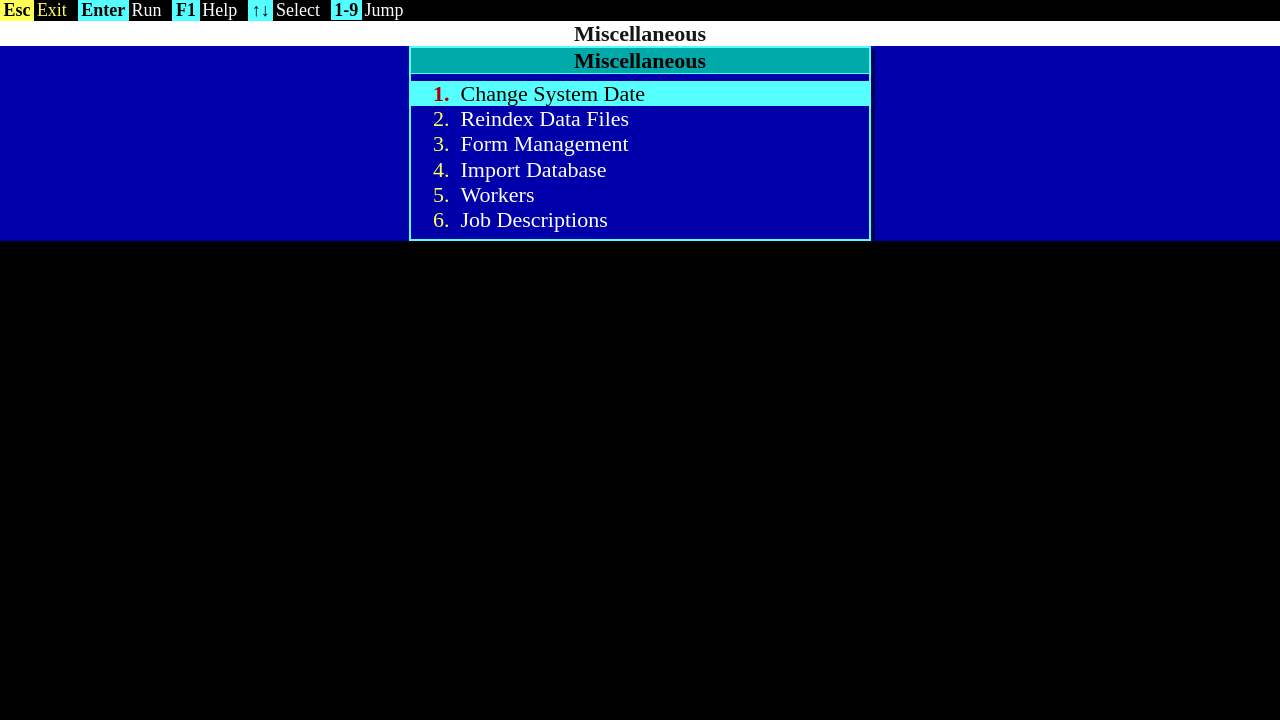
Test: MiscScreen › closes a Workers delete prompt on Esc without leaving the screen
Click the button "5.Workers": (497,195) [411,182,869,207]
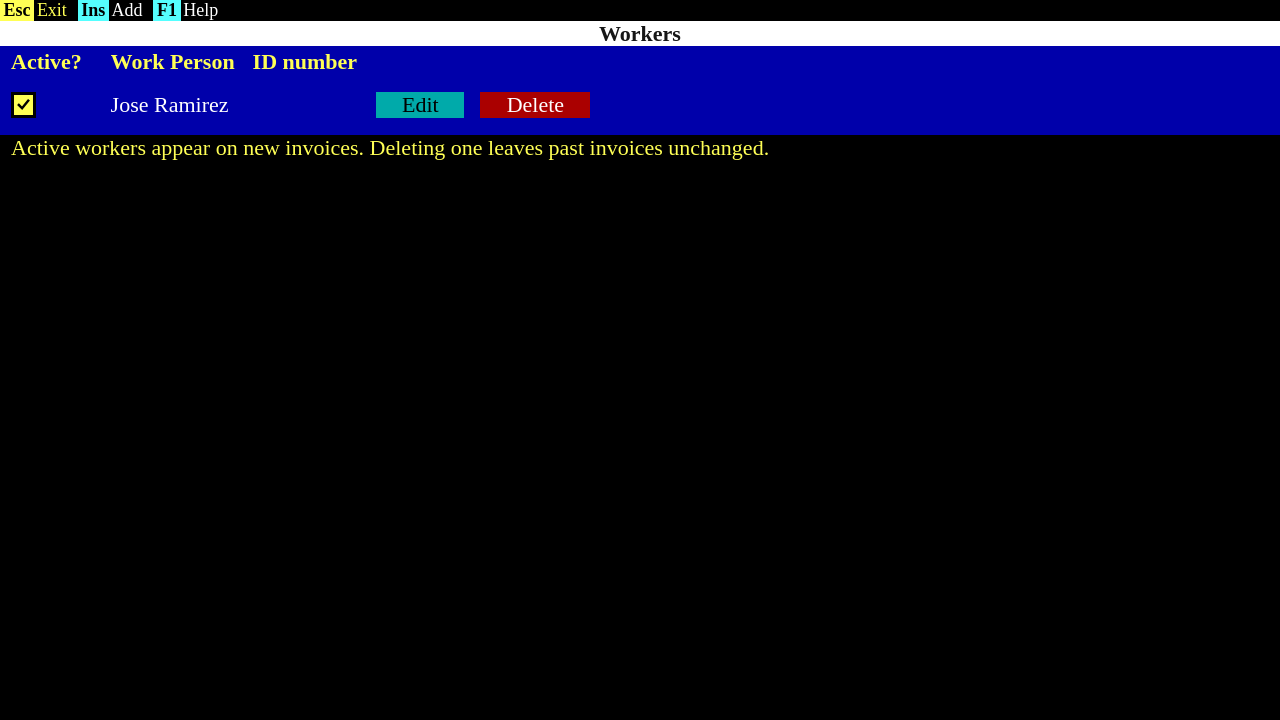
Click the button with aria-label "Delete Jose Ramirez": (535,105) [480,92,590,118]
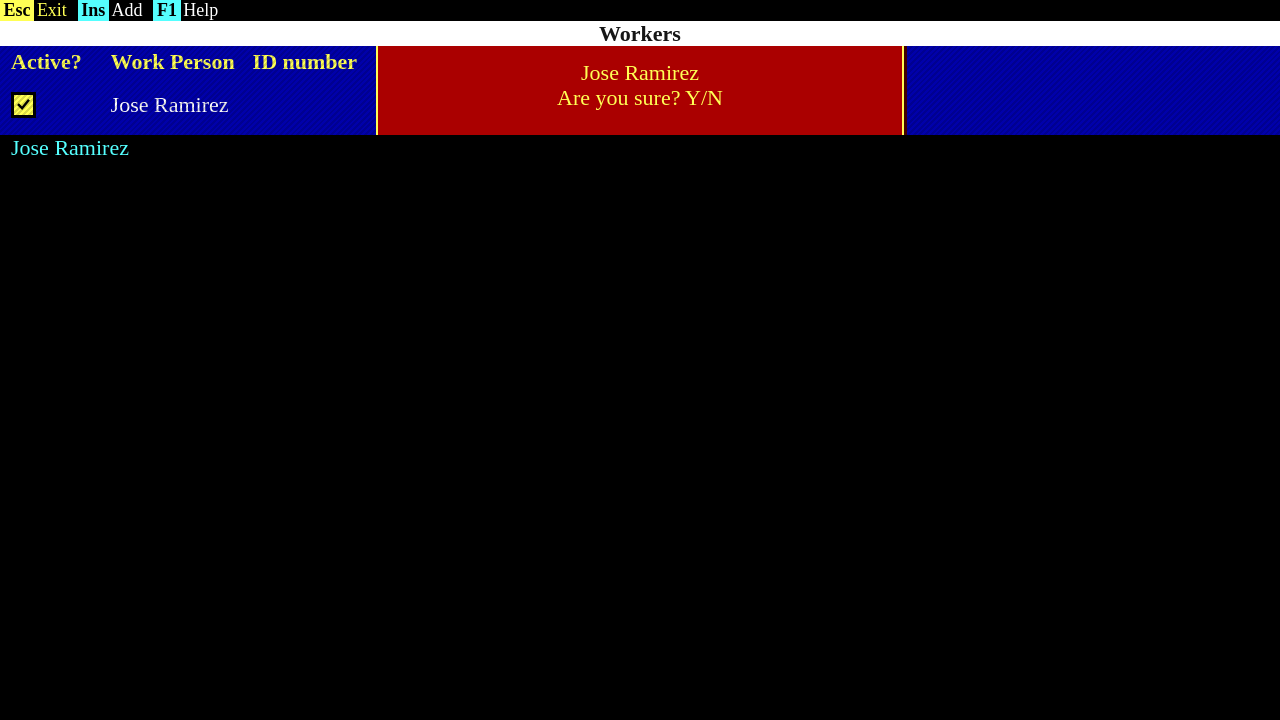
Check: the dialog "Are you sure? Y/N" is shown, box [376,46,904,135]
Press Escape
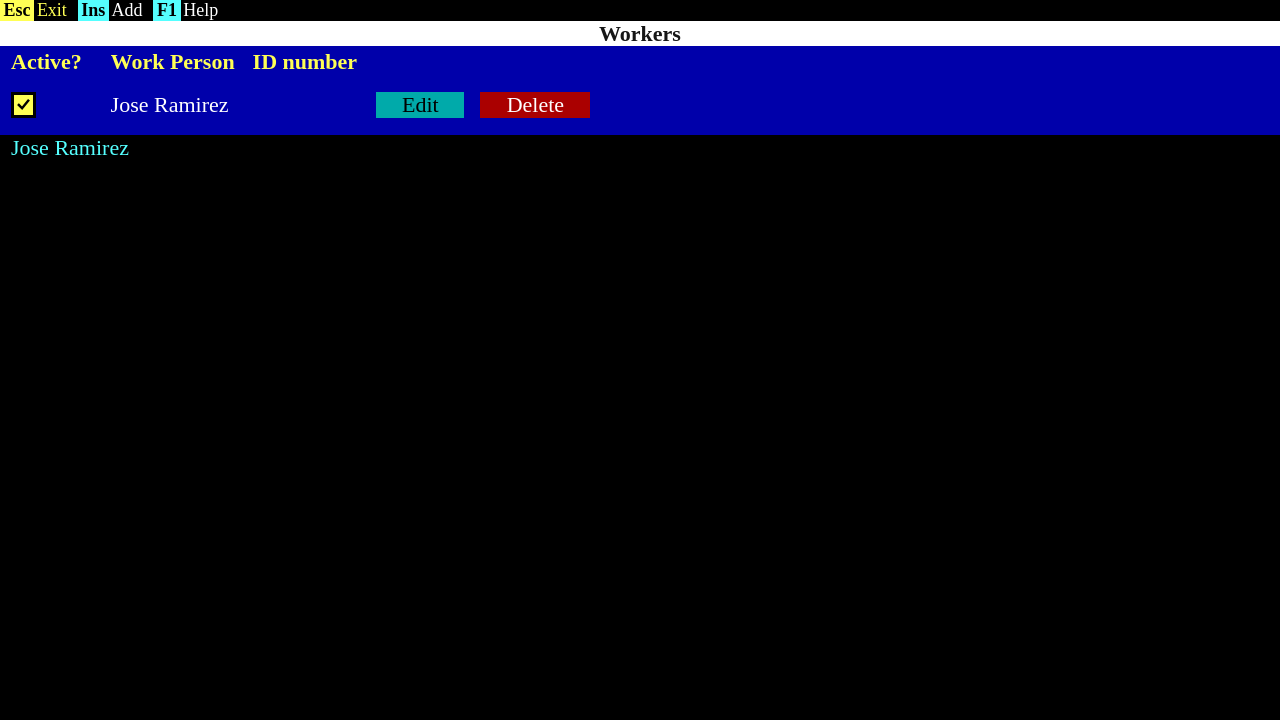
Check: the button "Ins Add" is shown, box [78,0,153,21]
Check: the dialog is gone
